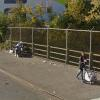Tree: (55, 1, 100, 30)
